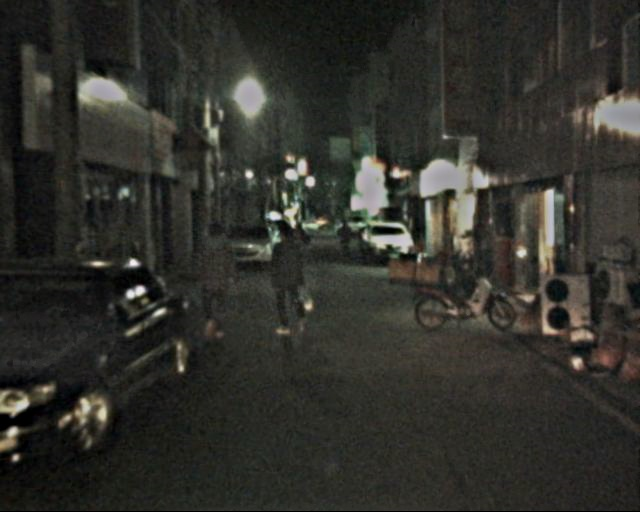person: (192, 221, 240, 338), (265, 224, 313, 336), (337, 216, 354, 257)
